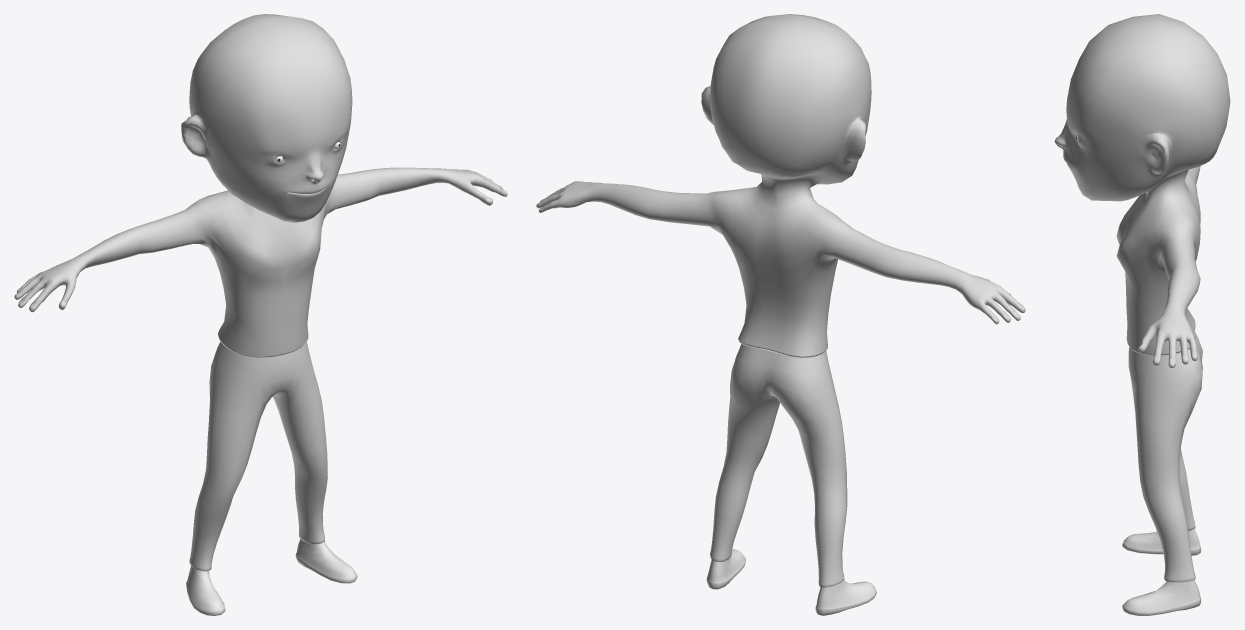
Rendered from FBX_PNJ_01_FEMALE.fbx.
The picture shows the model from 3 angles, left to right: view 1: azimuth 30°, elevation 25°; view 2: azimuth 150°, elevation 25°; view 3: azimuth 270°, elevation 25°; orthographic projection. The views are drawn at different scales.
Visible parts, largest first — view 1: PNJ_02_SD2; view 2: PNJ_02_SD2; view 3: PNJ_02_SD2.
Boxes of the visible parts, left/top/right/bottom form: PNJ_02_SD2: left=14, top=14, right=507, bottom=615; PNJ_02_SD2: left=536, top=14, right=1025, bottom=615; PNJ_02_SD2: left=1054, top=14, right=1230, bottom=615.
Size of the model in its own units: 91.15 by 102 by 29.35.
